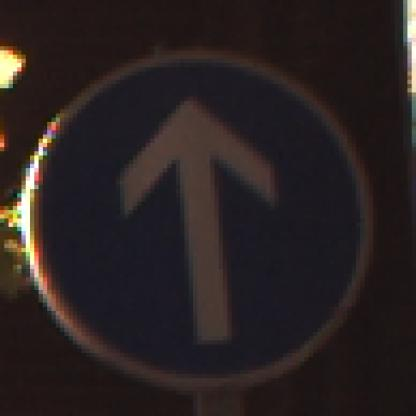AheadOnly: (35, 39, 383, 383)
